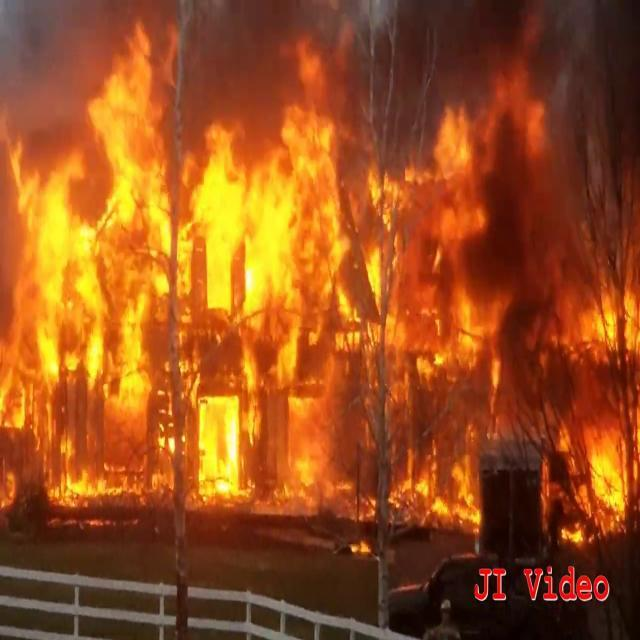Fire: (0, 46, 637, 530)
